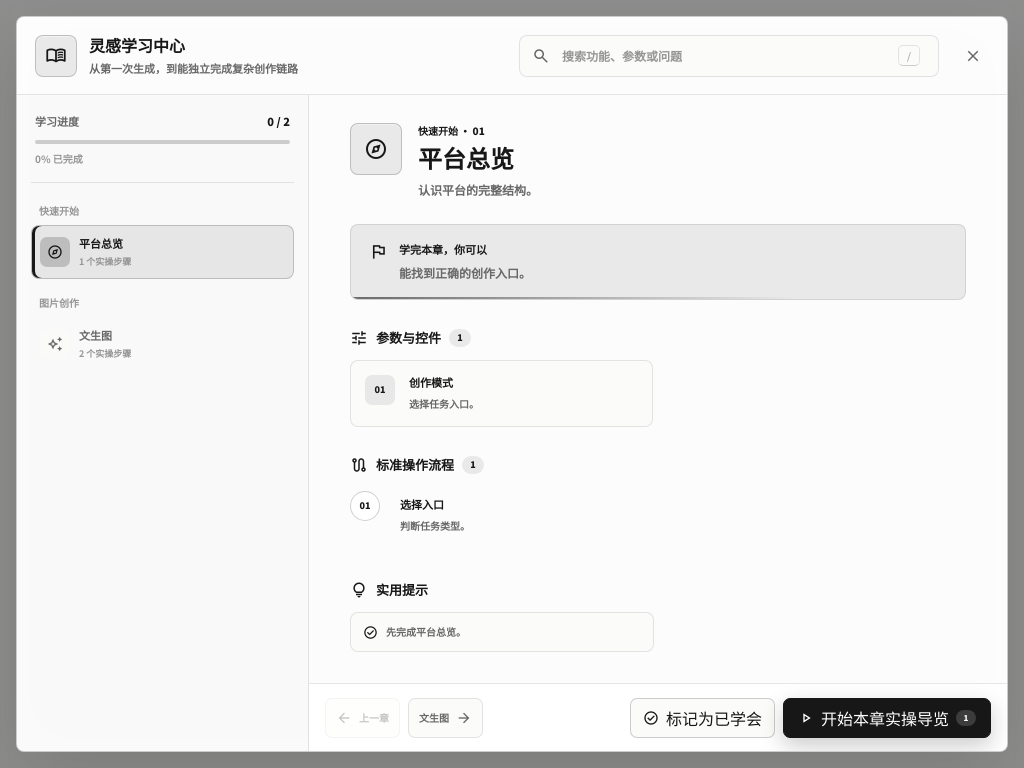
Test: OnboardingManual › searches parameter and issue content, then jumps to the matching chapter
Type "清晰度" into the search field named "搜索功能、参数或问题" at (726, 56), box [562,46,890,64]
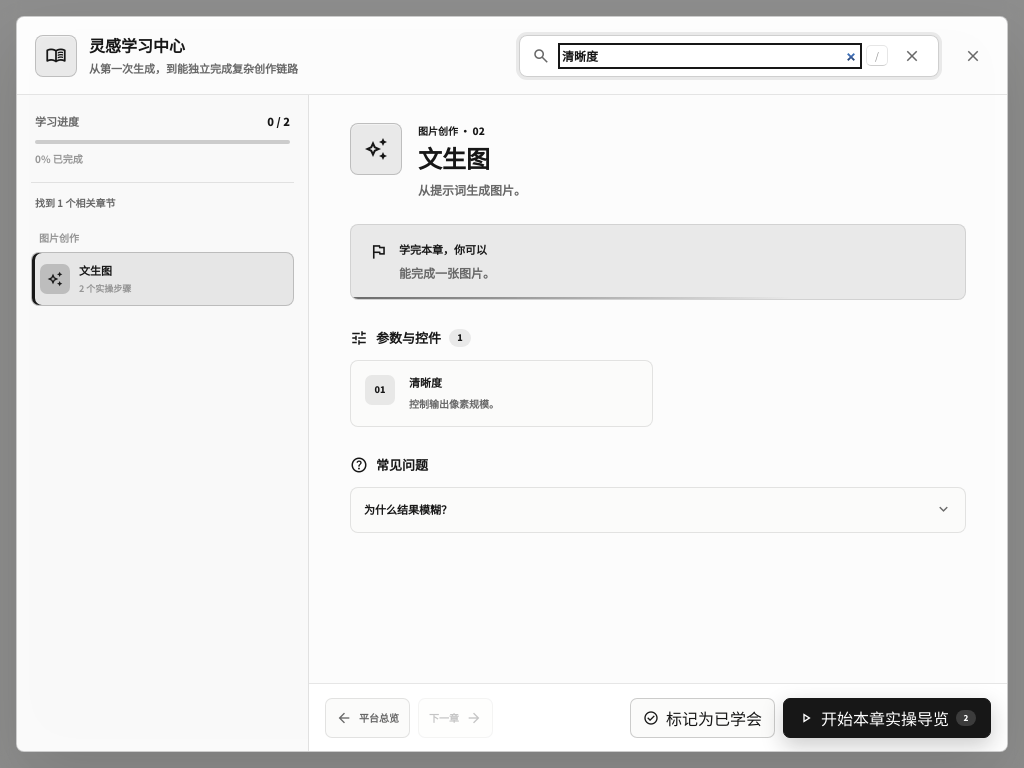
Result: the heading "文生图" is shown at [418,140,490,175]
Result: the heading "清晰度" is shown at [409,374,442,390]
Result: the text "找到 1 个相关章节" is shown at [35,194,116,210]
